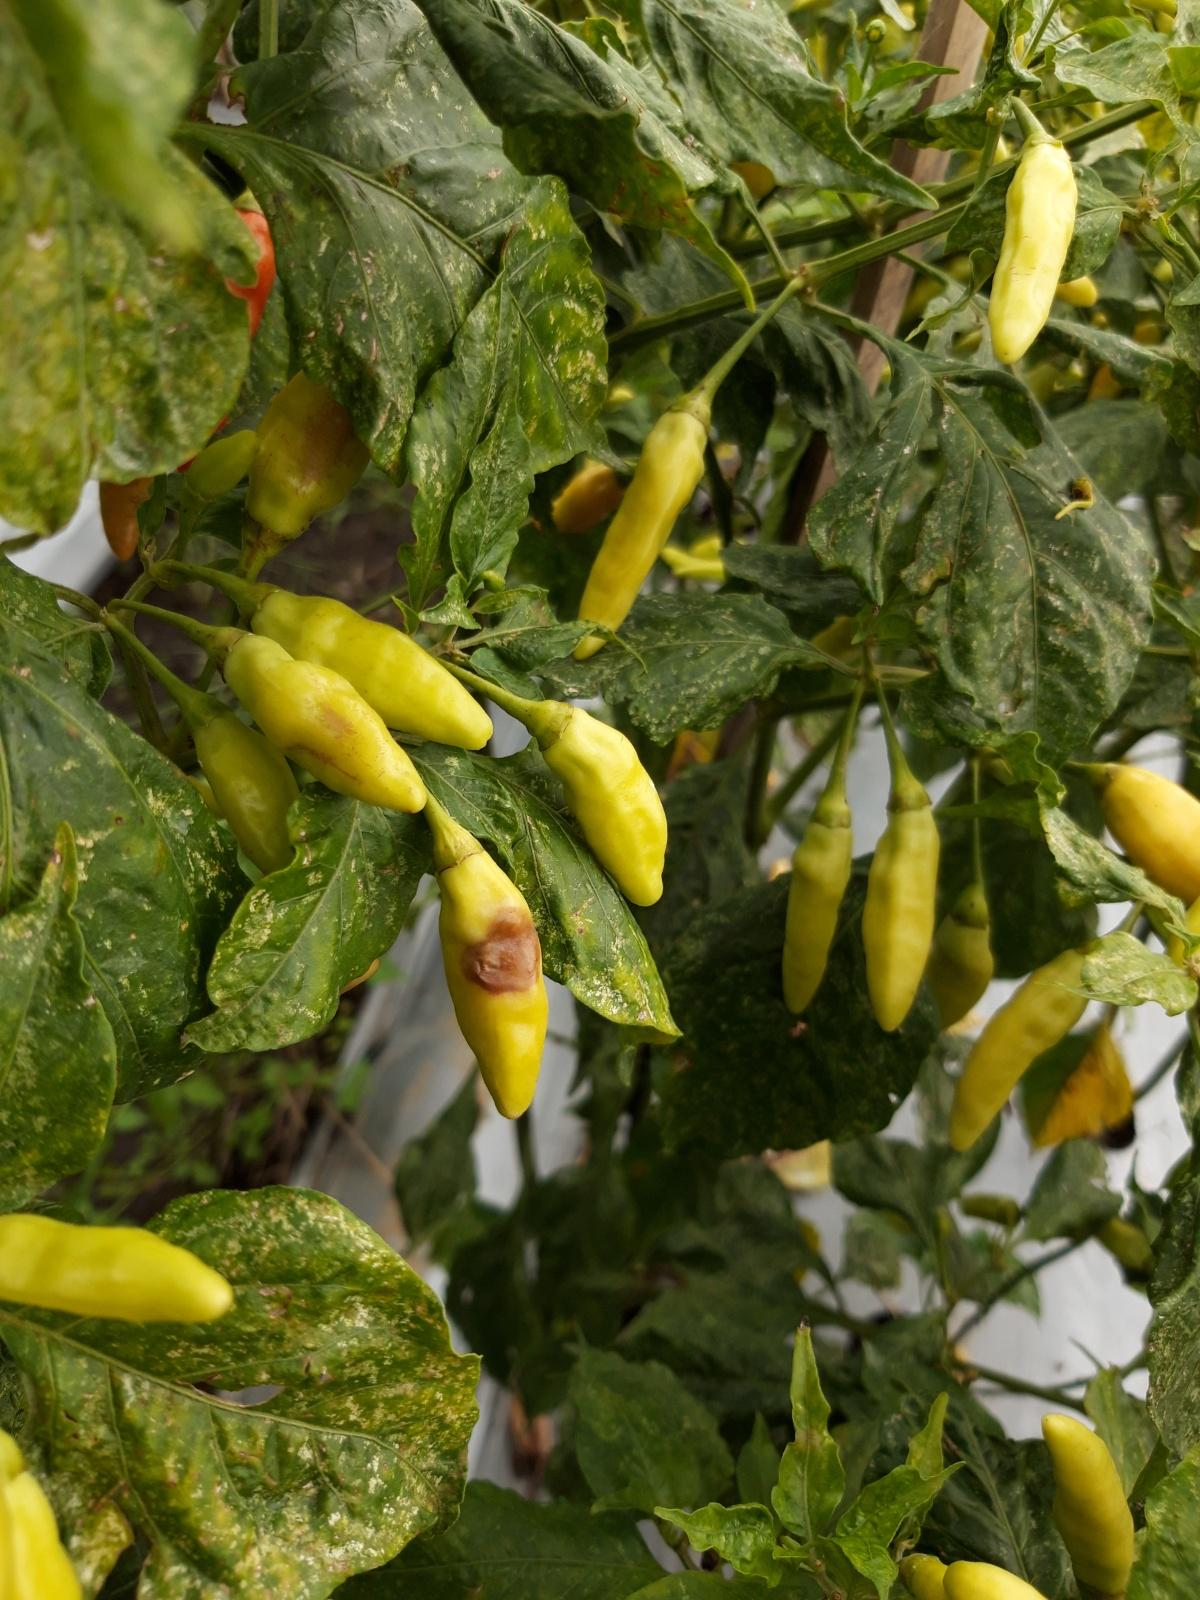cabai_normal: (205, 625, 429, 815), (236, 585, 492, 750), (570, 398, 708, 660), (949, 939, 1108, 1154), (528, 698, 667, 908), (0, 1214, 233, 1323), (182, 690, 300, 874), (988, 131, 1076, 365), (861, 782, 942, 1031), (1040, 1412, 1134, 1600), (1087, 761, 1200, 910), (782, 796, 855, 1015), (924, 879, 992, 1028)
lalat_buah: (432, 821, 548, 1120)
